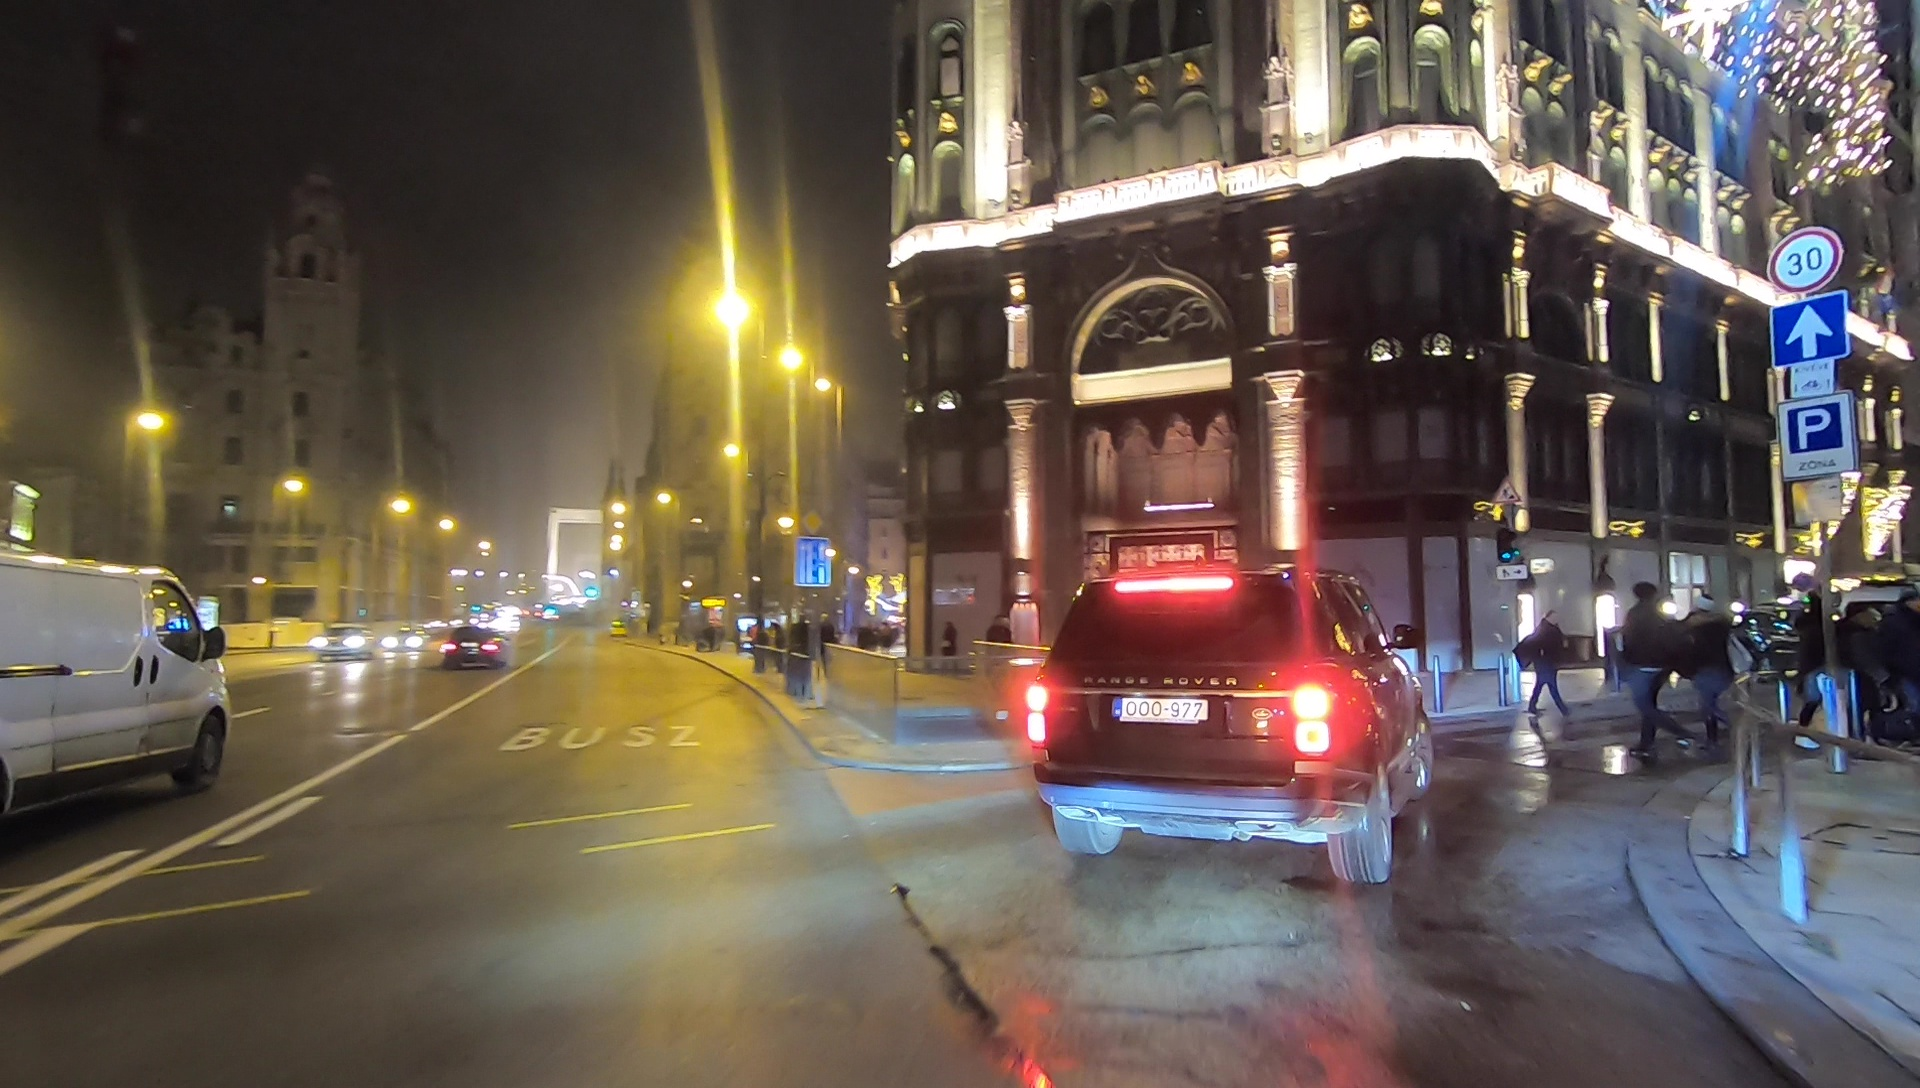person: (1681, 587, 1749, 757), (1626, 583, 1681, 760), (1792, 587, 1844, 751), (1842, 602, 1886, 751), (1523, 608, 1571, 714), (1892, 586, 1920, 744)
